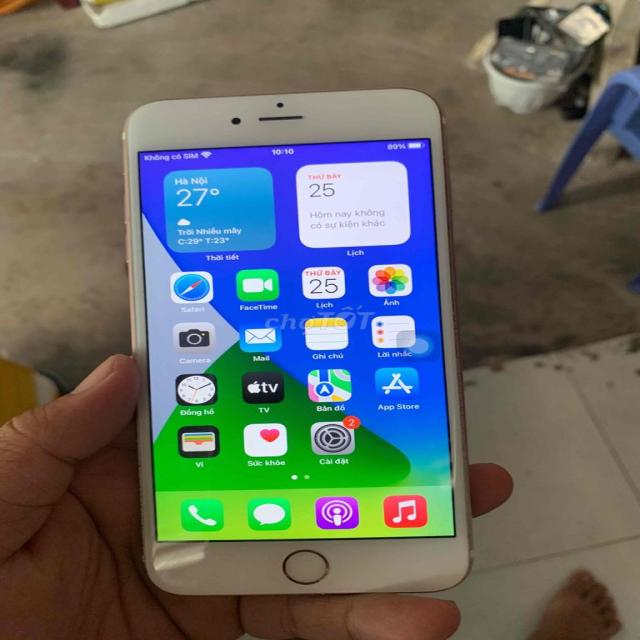gen_6: (115, 88, 483, 596)
